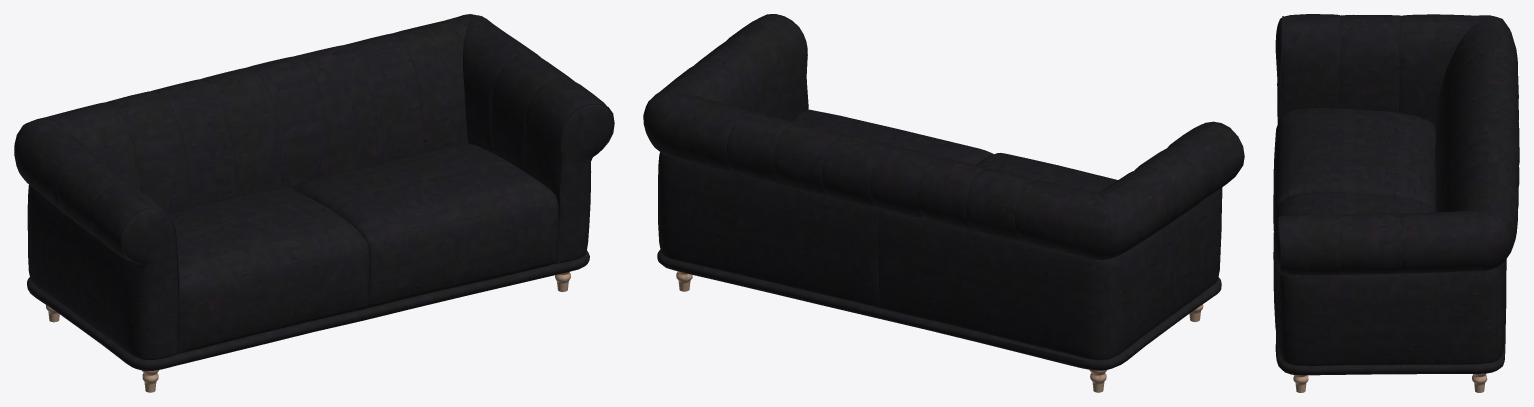
The model's file is cover-lejde-antracyt-brzoza.glb.
3 views of the same model, side by side, from view 1: azimuth 30°, elevation 25°; view 2: azimuth 150°, elevation 25°; view 3: azimuth 270°, elevation 25° (orthographic). The views are drawn at different scales.
Visible parts, largest first — view 1: Mesh_0; view 2: Mesh_0; view 3: Mesh_0.
Boxes of the visible parts, bbox=[...] form: Mesh_0: bbox=[14, 14, 614, 392]; Mesh_0: bbox=[643, 14, 1244, 392]; Mesh_0: bbox=[1273, 14, 1519, 392].
Bounding box in the file's own units: 1.94 × 0.7399 × 0.9.
2 materials, 2 textured.
